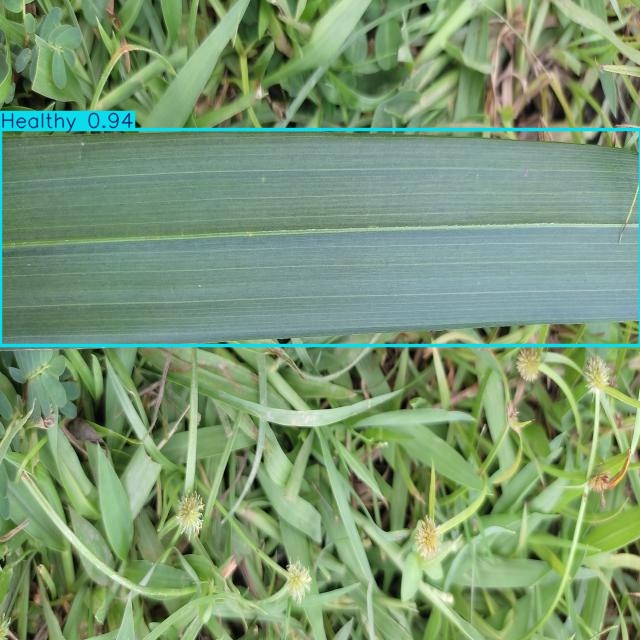Healthy: (0, 130, 640, 345)
